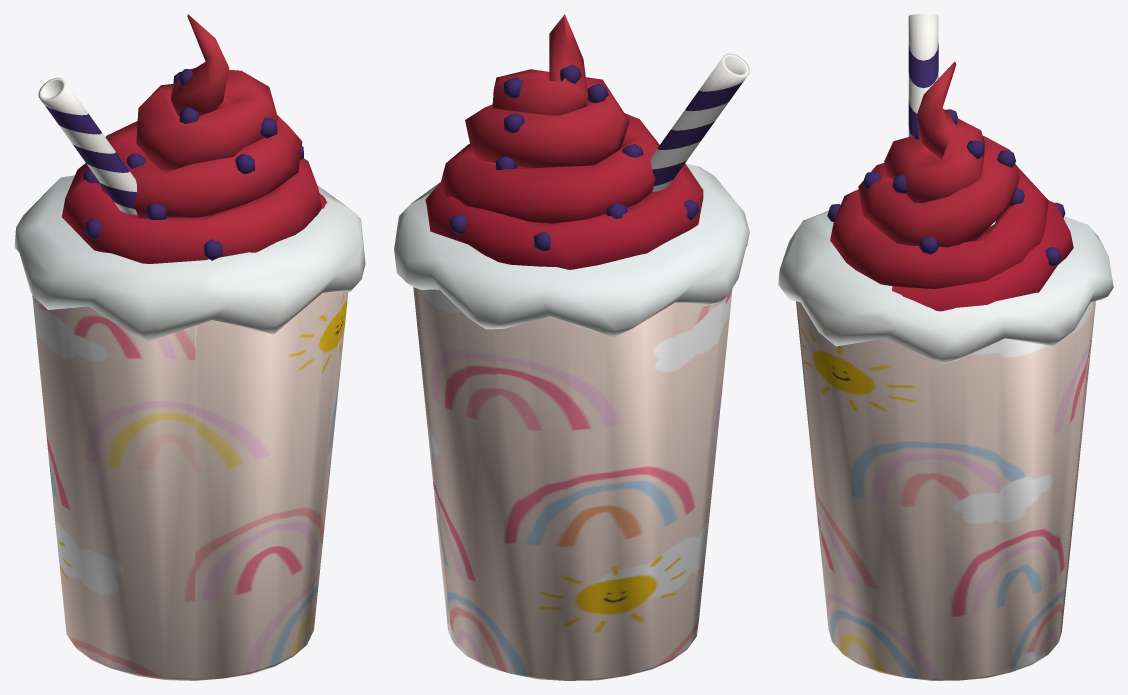
The model's file is Milkshake-5.fbx.
3 renders of one model, left to right at view 1: azimuth 30°, elevation 25°; view 2: azimuth 150°, elevation 25°; view 3: azimuth 270°, elevation 25°, orthographic. The views are drawn at different scales.
Visible parts, largest first — view 1: Milkshake-5; view 2: Milkshake-5; view 3: Milkshake-5.
Part boxes in pixels (x1,y1,x2,y2): Milkshake-5: (14, 14, 365, 680); Milkshake-5: (394, 14, 749, 680); Milkshake-5: (778, 14, 1113, 680).
Bounding box in the file's own units: 26.6 × 49.21 × 26.08.
